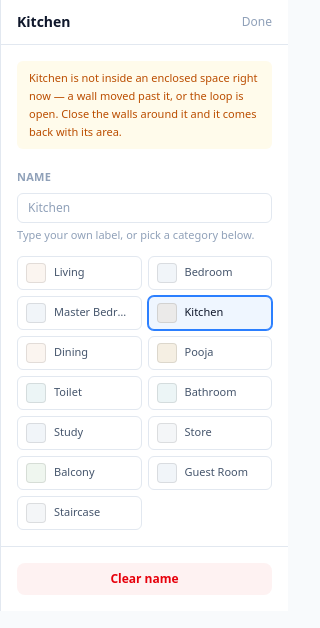
Test case: ★ B7.2 — the name survives its room › is still editable in the inspector, and names itself
Expected: the text with test id "room-detached" shows "Kitchen is not inside an enclosed space right now", [17,61,272,148]
Click the button with test id "room-type-study".
click(79, 432)  # box [17,416,142,450]
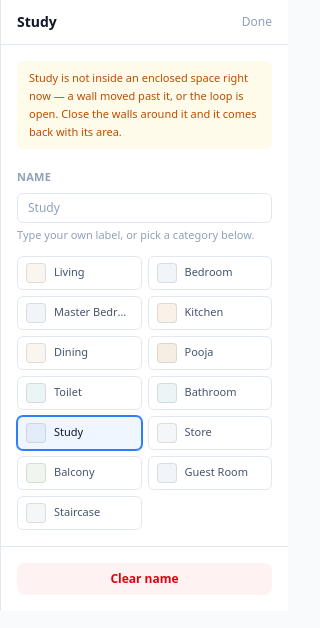
Type "Kids' Room" into the field with test id "room-custom-name".
click(144, 208); type("Kids' Room")  # box [17,193,272,223]
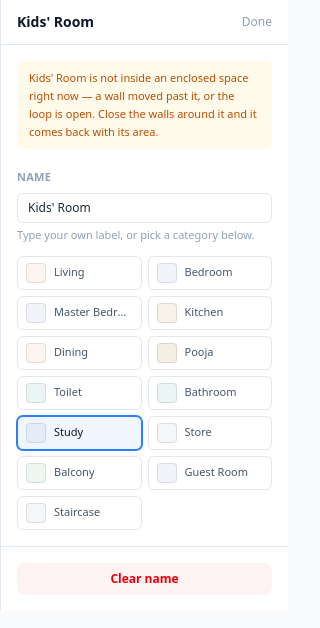
Now the heading "Kids' Room" is shown, box [17,12,94,32]
